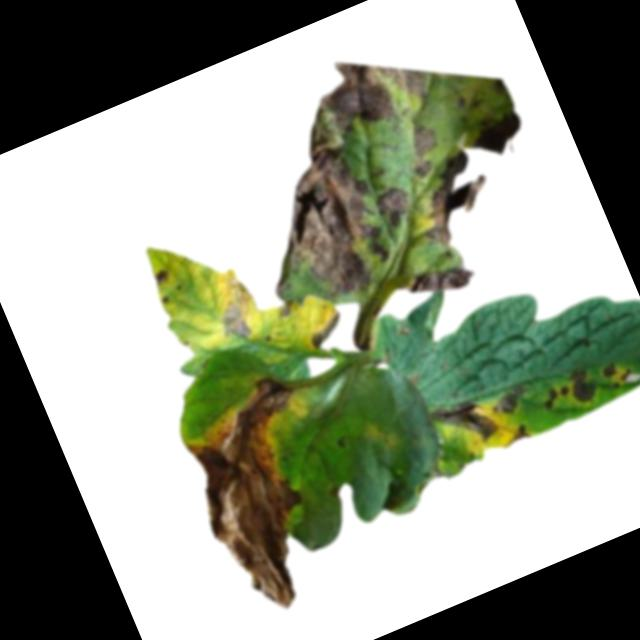Early_blight: (163, 369, 368, 626), (234, 146, 405, 325), (282, 33, 436, 159), (404, 147, 508, 252), (431, 388, 502, 456), (206, 278, 270, 350), (403, 252, 479, 308), (470, 110, 537, 168), (372, 184, 420, 238), (404, 113, 455, 163), (303, 310, 350, 350), (566, 365, 604, 410), (602, 354, 640, 394), (496, 382, 534, 418), (541, 381, 577, 413), (498, 421, 534, 449), (275, 297, 299, 321), (151, 266, 175, 288)
